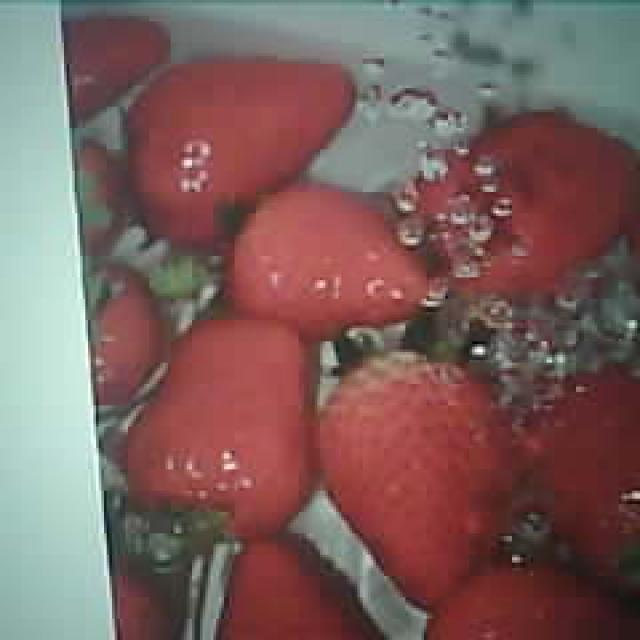strawberry: (317, 354, 510, 606)
